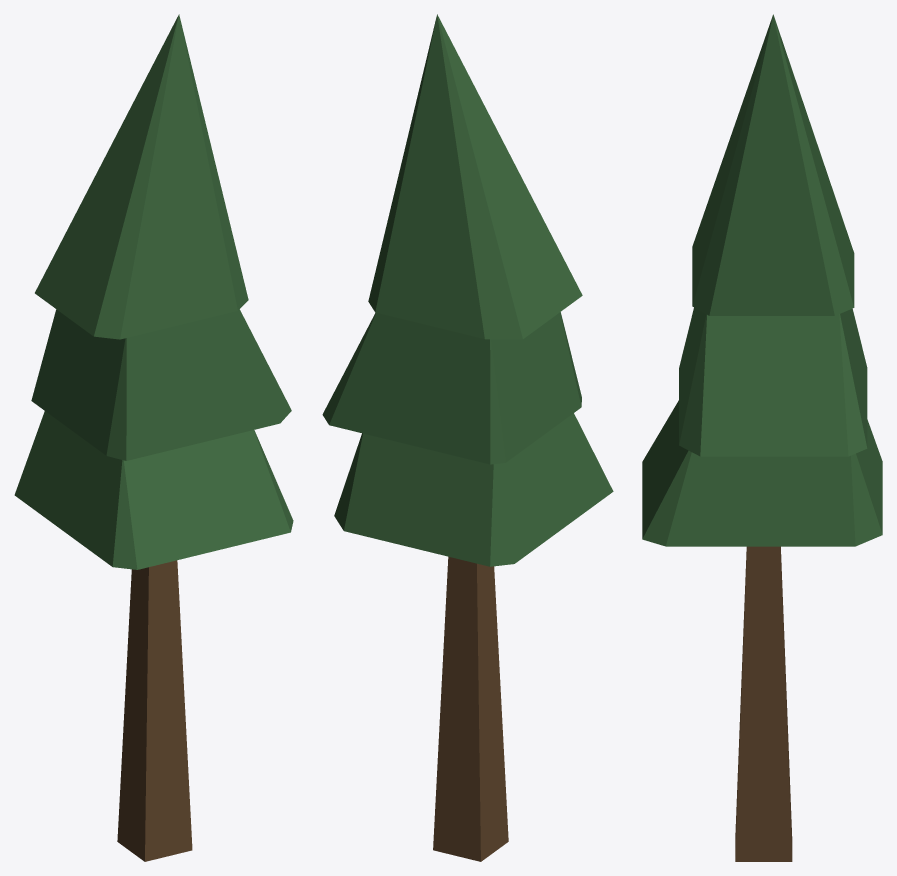
File: pine-tall.glb
3 renders of one model, left to right at view 1: azimuth 30°, elevation 25°; view 2: azimuth 150°, elevation 25°; view 3: azimuth 270°, elevation 25°, orthographic. The views are drawn at different scales.
Parts seen in each view (by area): view 1: tree_pineTallA; view 2: tree_pineTallA; view 3: tree_pineTallA.
Boxes of the visible parts, <box> form: tree_pineTallA: <box>14,14,293,861</box>; tree_pineTallA: <box>322,14,613,861</box>; tree_pineTallA: <box>642,14,882,861</box>.
Size of the model in its own units: 0.606 by 2.4 by 0.615.
